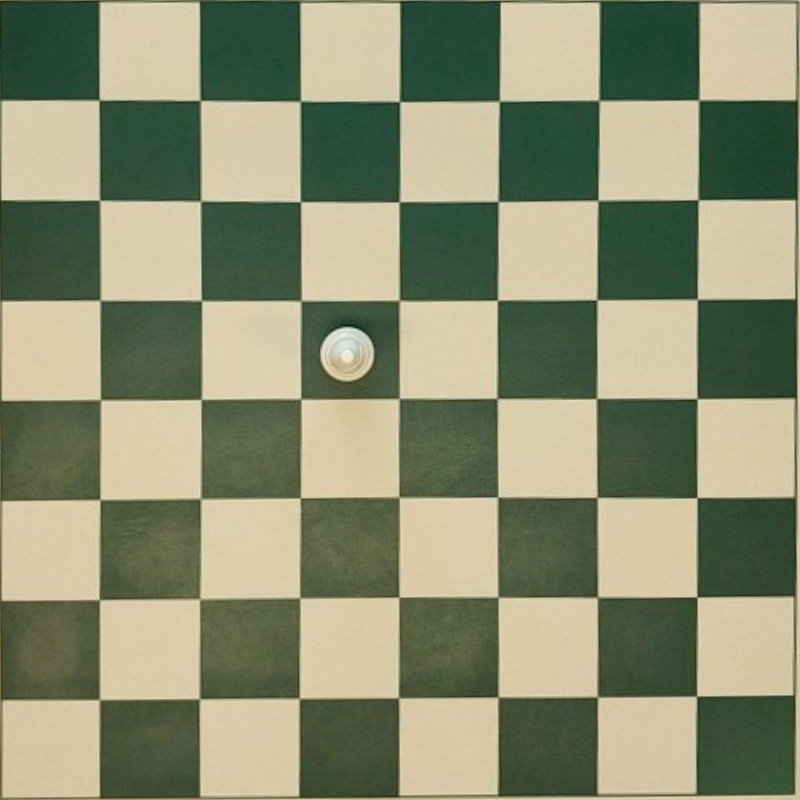white-bishop: (320, 326, 374, 381)
